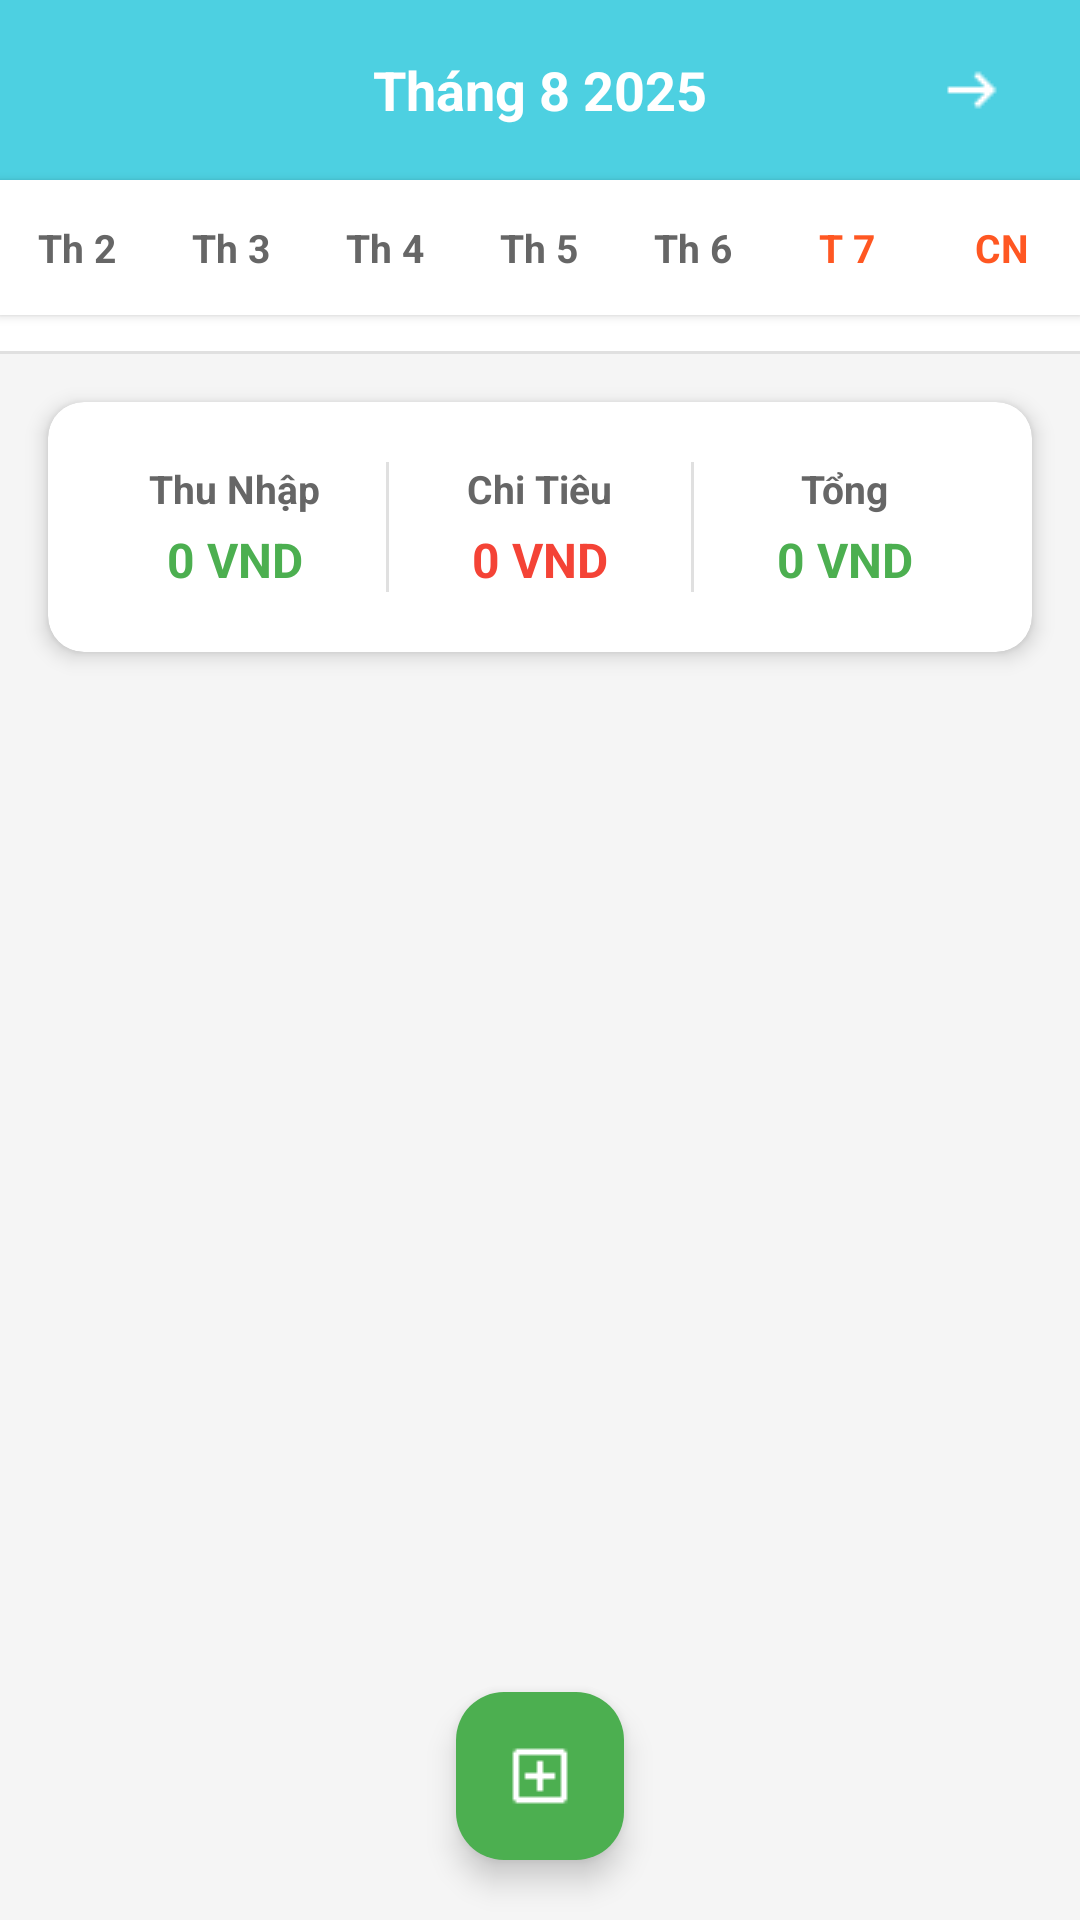

Screen size 1080 x 1920. Icon name, then its center in pixels as point (x, y):
add: point (540, 1776)
Next: point (972, 90)
